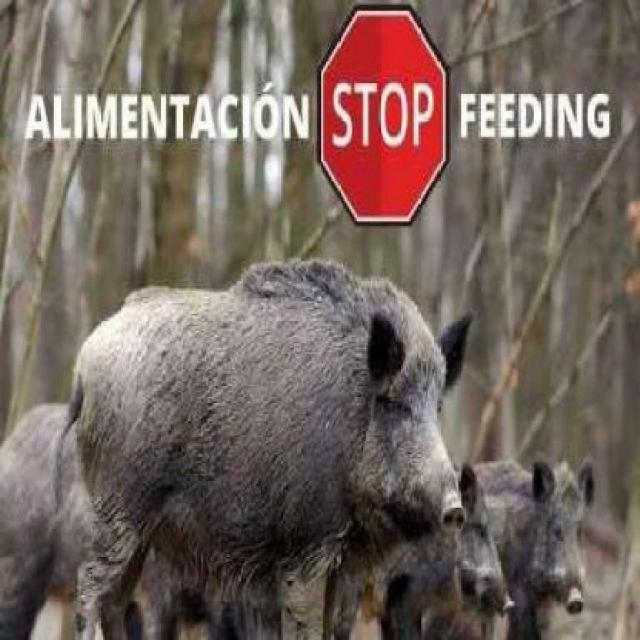Wild Boar: (53, 249, 478, 640), (2, 386, 284, 640), (289, 458, 520, 640), (440, 446, 598, 640)
